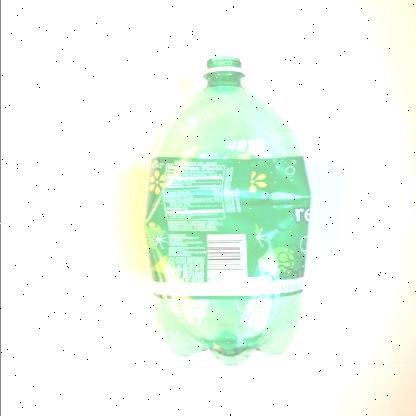Plastic Bottle: (143, 55, 310, 367)
